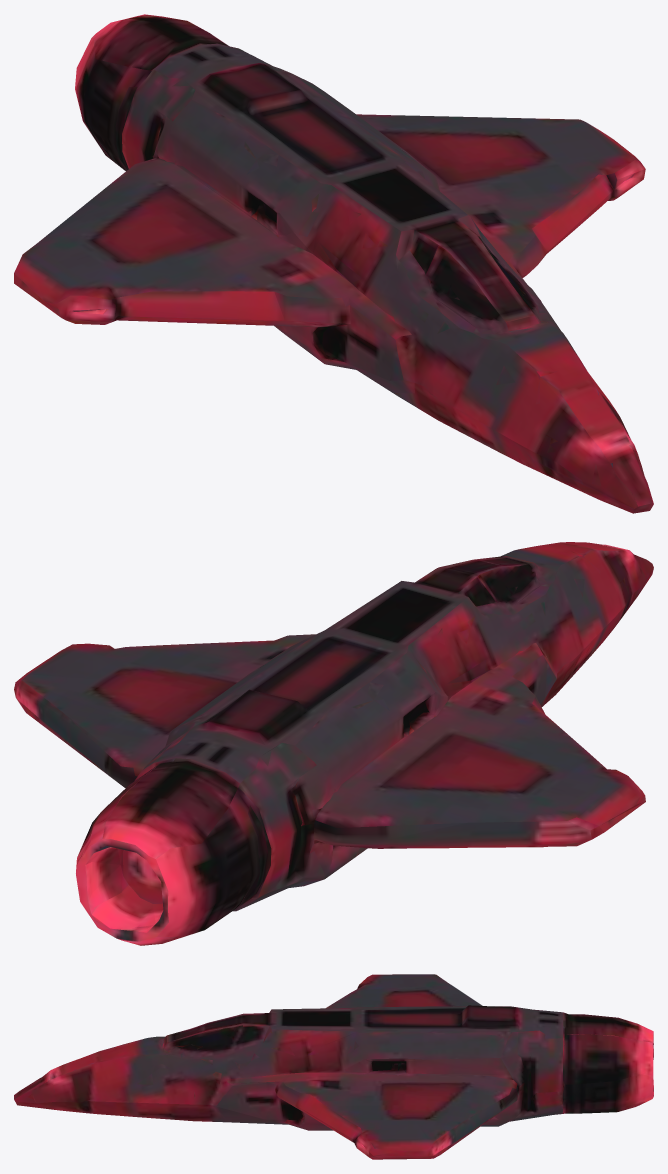
Rendered from enemy-basic-s10.glb.
3 views of the same model, one above another, from view 1: azimuth 30°, elevation 25°; view 2: azimuth 150°, elevation 25°; view 3: azimuth 270°, elevation 25° (orthographic). The views are drawn at different scales.
Visible parts, largest first — view 1: 2eeb1933-a6ca-4bd0-a515-30dd85c03f9c_texturing.obj; view 2: 2eeb1933-a6ca-4bd0-a515-30dd85c03f9c_texturing.obj; view 3: 2eeb1933-a6ca-4bd0-a515-30dd85c03f9c_texturing.obj.
Part boxes in pixels (x1,y1,x2,y2): 2eeb1933-a6ca-4bd0-a515-30dd85c03f9c_texturing.obj: [14, 14, 653, 513]; 2eeb1933-a6ca-4bd0-a515-30dd85c03f9c_texturing.obj: [14, 542, 653, 945]; 2eeb1933-a6ca-4bd0-a515-30dd85c03f9c_texturing.obj: [14, 974, 653, 1159].
Bounding box in the file's own units: 1.3 × 0.3399 × 1.99.
1 material, 1 textured.
